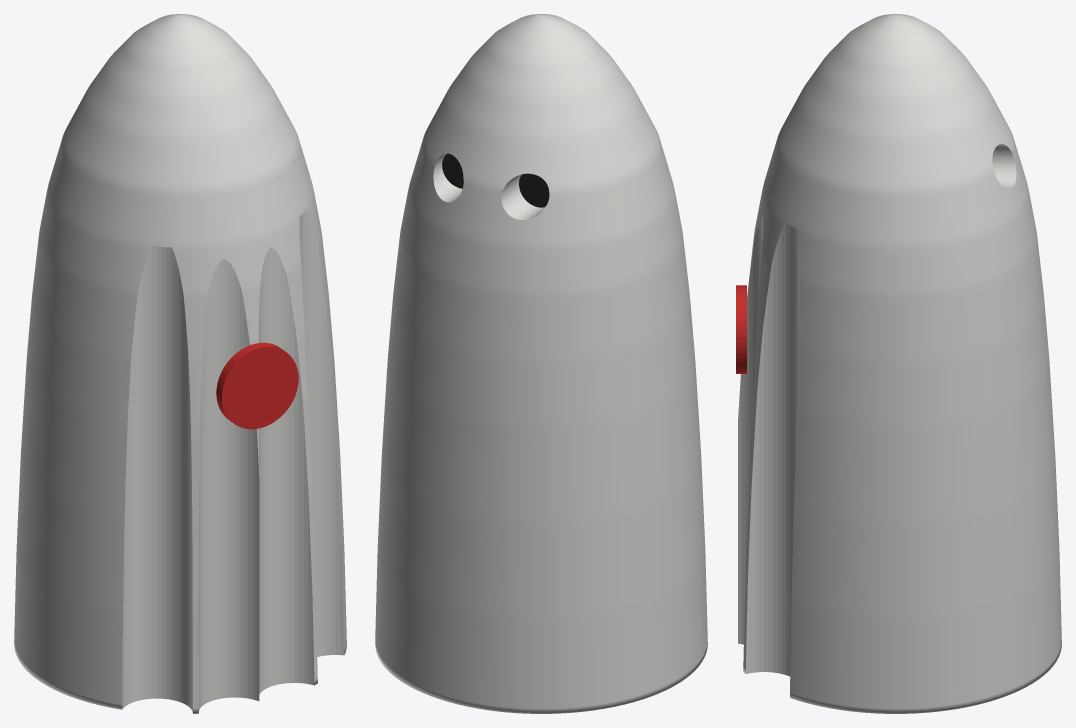
The model's file is ghost_red.glb.
3 renders of one model, left to right at view 1: azimuth 30°, elevation 25°; view 2: azimuth 150°, elevation 25°; view 3: azimuth 270°, elevation 25°, orthographic.
Visible parts, largest first — view 1: ghost, marker; view 2: ghost, eyes; view 3: ghost, marker.
Part boxes in pixels (bbox=[...]): ghost: bbox=[14, 14, 346, 713]; marker: bbox=[216, 342, 298, 429]; ghost: bbox=[375, 14, 707, 713]; eyes: bbox=[442, 153, 549, 207]; ghost: bbox=[738, 14, 1061, 713]; marker: bbox=[736, 285, 746, 373].
Size of the model in its own units: 0.024 by 0.05 by 0.0235.
